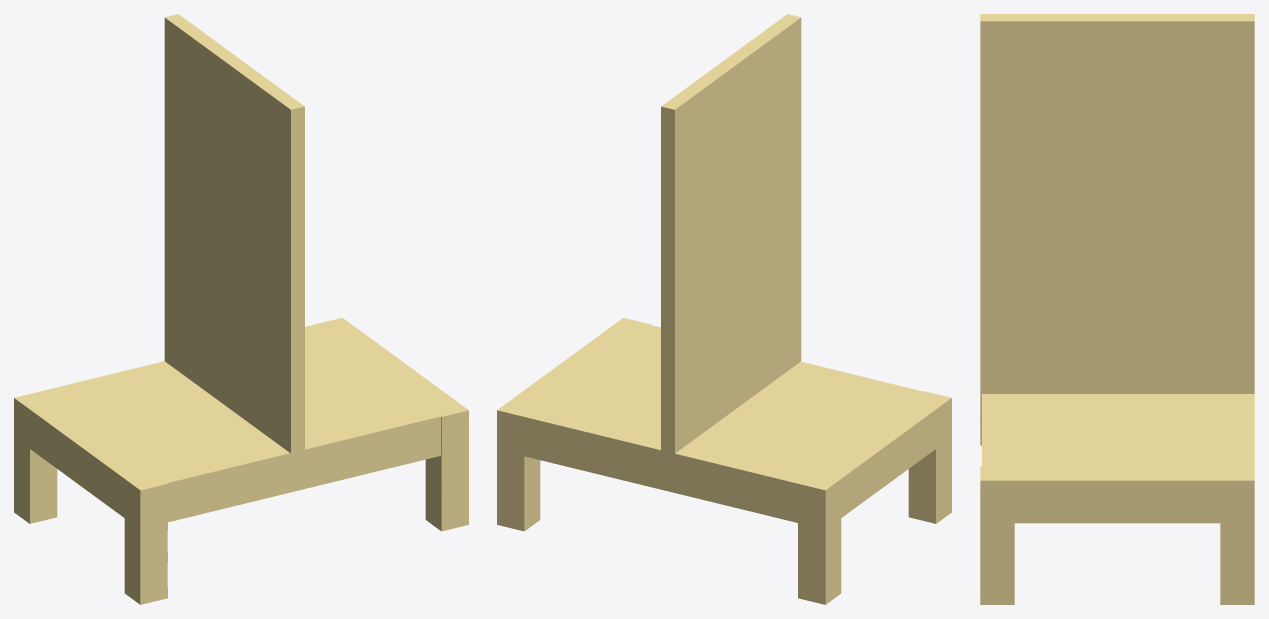
Rendered from input.gltf.
3 views of the same model, side by side, from view 1: azimuth 30°, elevation 25°; view 2: azimuth 150°, elevation 25°; view 3: azimuth 270°, elevation 25° (orthographic). The views are drawn at different scales.
Parts seen in each view (by area): view 1: Renderer Node; view 2: Renderer Node; view 3: Renderer Node.
Boxes of the visible parts, x1,y1,x2,y2 form: Renderer Node: [14, 14, 468, 604]; Renderer Node: [497, 14, 951, 604]; Renderer Node: [980, 14, 1254, 604].
Size of the model in its own units: 0.75 by 1 by 0.5.
